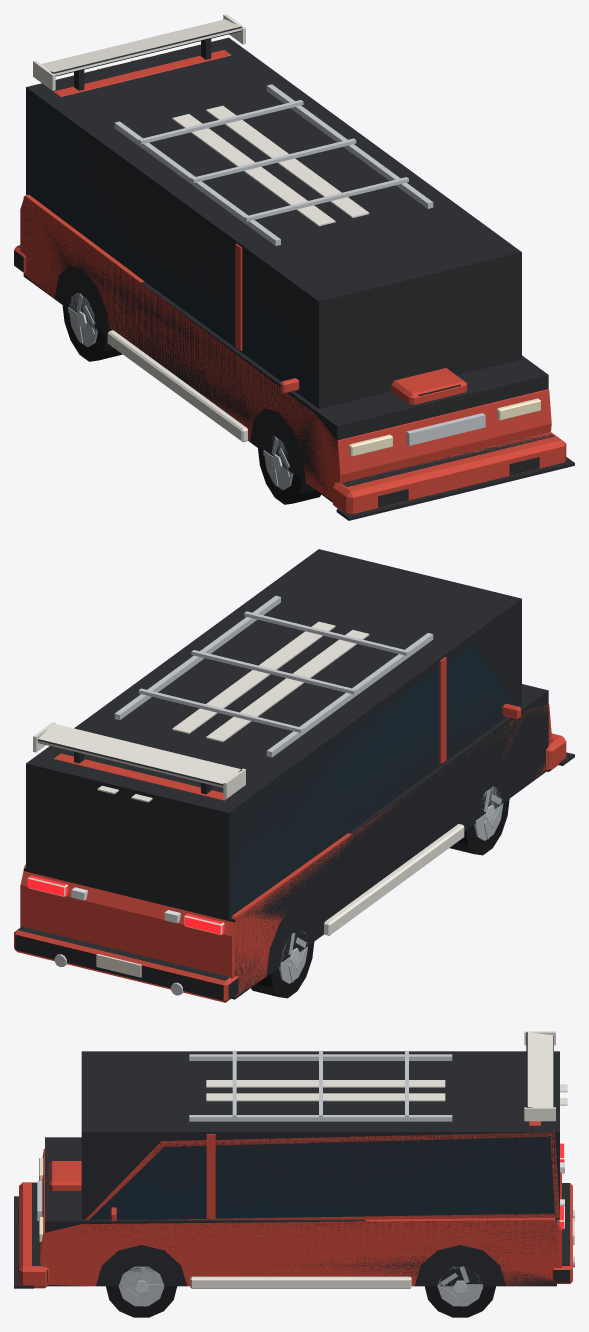
Rendered from VEH_Van.fbx.
The picture shows the model from 3 angles, top to bottom: view 1: azimuth 30°, elevation 25°; view 2: azimuth 150°, elevation 25°; view 3: azimuth 270°, elevation 25°; orthographic projection. The views are drawn at different scales.
Visible parts, largest first — view 1: VEH_Van__COL_Cabin, VEH_Van__BODY, VEH_Van, VEH_Van__COL_Body, VEH_Van__WHEEL_RR, VEH_Van__WHEEL_FR, VEH_Van__LIGHTS; view 2: VEH_Van__COL_Cabin, VEH_Van__BODY, VEH_Van__COL_Body, VEH_Van, VEH_Van__WHEEL_FR, VEH_Van__WHEEL_RR, VEH_Van__LIGHTS; view 3: VEH_Van__BODY, VEH_Van__COL_Cabin, VEH_Van, VEH_Van__COL_Body, VEH_Van__WHEEL_FL, VEH_Van__WHEEL_RL, VEH_Van__LIGHTS.
Boxes of the visible parts, box(x1,y1,x2,y2) form: VEH_Van__COL_Cabin: box(26, 37, 521, 408); VEH_Van__BODY: box(14, 90, 554, 500); VEH_Van: box(33, 14, 574, 520); VEH_Van__COL_Body: box(23, 197, 548, 502); VEH_Van__WHEEL_RR: box(62, 292, 122, 361); VEH_Van__WHEEL_FR: box(258, 435, 321, 504); VEH_Van__LIGHTS: box(349, 398, 540, 456); VEH_Van__COL_Cabin: box(26, 549, 521, 920); VEH_Van__BODY: box(14, 645, 553, 1002); VEH_Van__COL_Body: box(23, 684, 548, 999); VEH_Van: box(33, 595, 574, 995); VEH_Van__WHEEL_FR: box(449, 786, 509, 855); VEH_Van__WHEEL_RR: box(251, 932, 314, 998); VEH_Van__LIGHTS: box(27, 875, 224, 934); VEH_Van__BODY: box(32, 1132, 574, 1286); VEH_Van__COL_Cabin: box(81, 1051, 559, 1219); VEH_Van: box(14, 1031, 574, 1288); VEH_Van__COL_Body: box(45, 1137, 556, 1286); VEH_Van__WHEEL_FL: box(106, 1266, 176, 1317); VEH_Van__WHEEL_RL: box(424, 1266, 495, 1317); VEH_Van__LIGHTS: box(39, 1143, 564, 1241).
Size of the model in its own units: 2.26 by 2.29 by 5.63.
